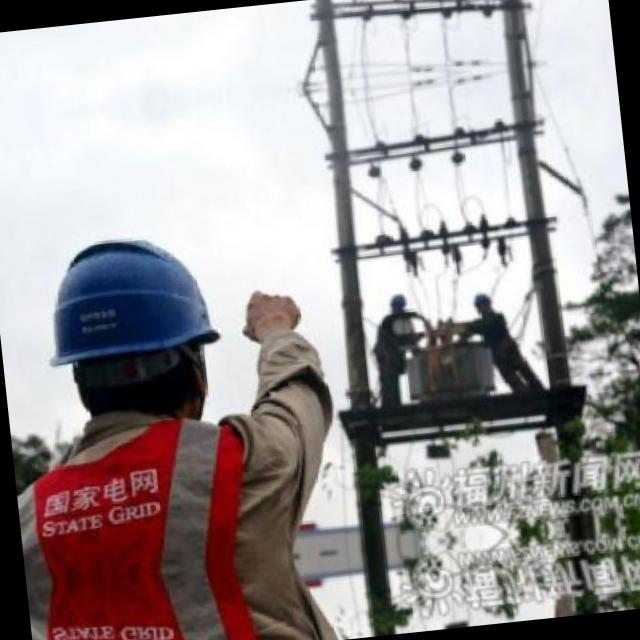helmet: (18, 197, 247, 460)
